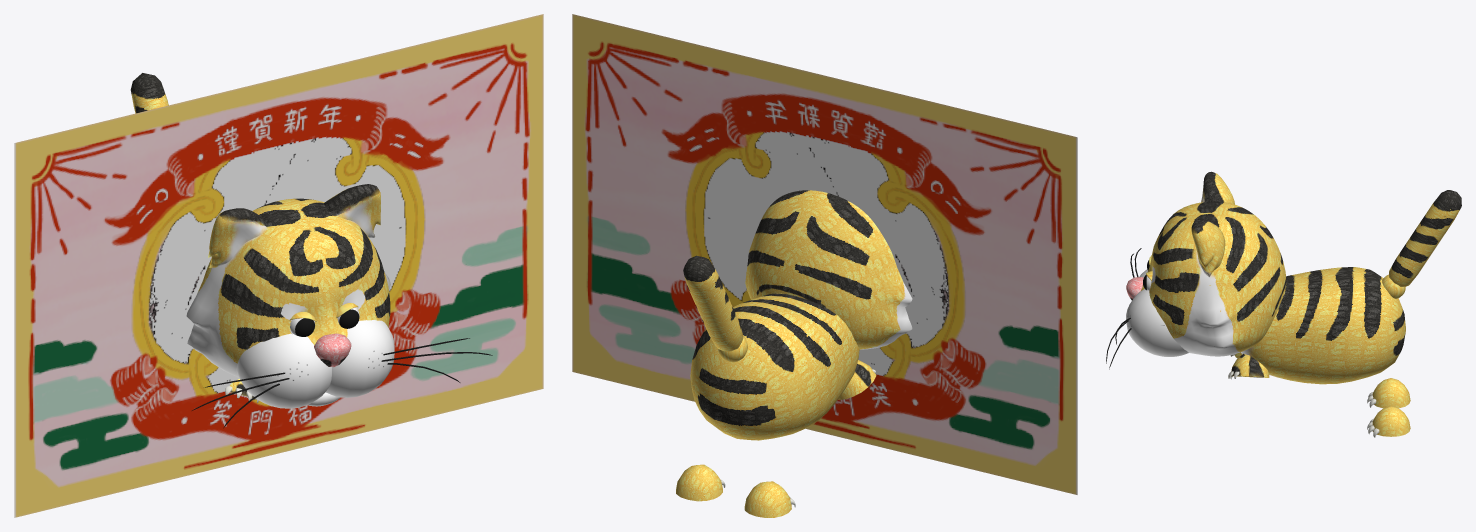
The model's file is tiger_01_1228.glb.
3 renders of one model, left to right at view 1: azimuth 30°, elevation 25°; view 2: azimuth 150°, elevation 25°; view 3: azimuth 270°, elevation 25°, orthographic. The views are drawn at different scales.
Visible parts, largest first — view 1: cardBG, catHead, catrightCheak, catleftCheak, catleftEarL, catleftEarR1, catTale, catNose; view 2: cardBG, catBody, catHead, catTale, catleftLeg, catrightLeg, catrightArm; view 3: catHead, catBody, catTale, catleftCheak, catleftEarR1, catleftLeg, catrightLeg, catleftEarL, catleftArm.
Part boxes in pixels (<box>): cardBG: <box>14,14,543,517</box>; catHead: <box>186,198,390,377</box>; catrightCheak: <box>236,333,331,408</box>; catleftCheak: <box>325,320,394,397</box>; catleftEarL: <box>208,208,266,267</box>; catleftEarR1: <box>324,184,380,237</box>; catTale: <box>130,73,168,113</box>; catNose: <box>314,333,351,367</box>; cardBG: <box>572,14,1077,494</box>; catBody: <box>690,293,859,440</box>; catHead: <box>745,190,912,349</box>; catTale: <box>683,255,743,351</box>; catleftLeg: <box>676,464,722,501</box>; catrightLeg: <box>744,481,791,517</box>; catrightArm: <box>838,360,876,399</box>; catHead: <box>1141,202,1286,356</box>; catBody: <box>1241,267,1405,384</box>; catTale: <box>1389,190,1461,287</box>; catleftCheak: <box>1126,289,1188,356</box>; catleftEarR1: <box>1191,219,1225,276</box>; catleftLeg: <box>1372,406,1410,436</box>; catrightLeg: <box>1372,378,1410,408</box>; catleftEarL: <box>1201,171,1234,204</box>; catleftArm: <box>1231,353,1269,377</box>.
Size of the model in its own units: 25.77 by 17.53 by 18.84.
Materials: 2 (2 with a texture image).
